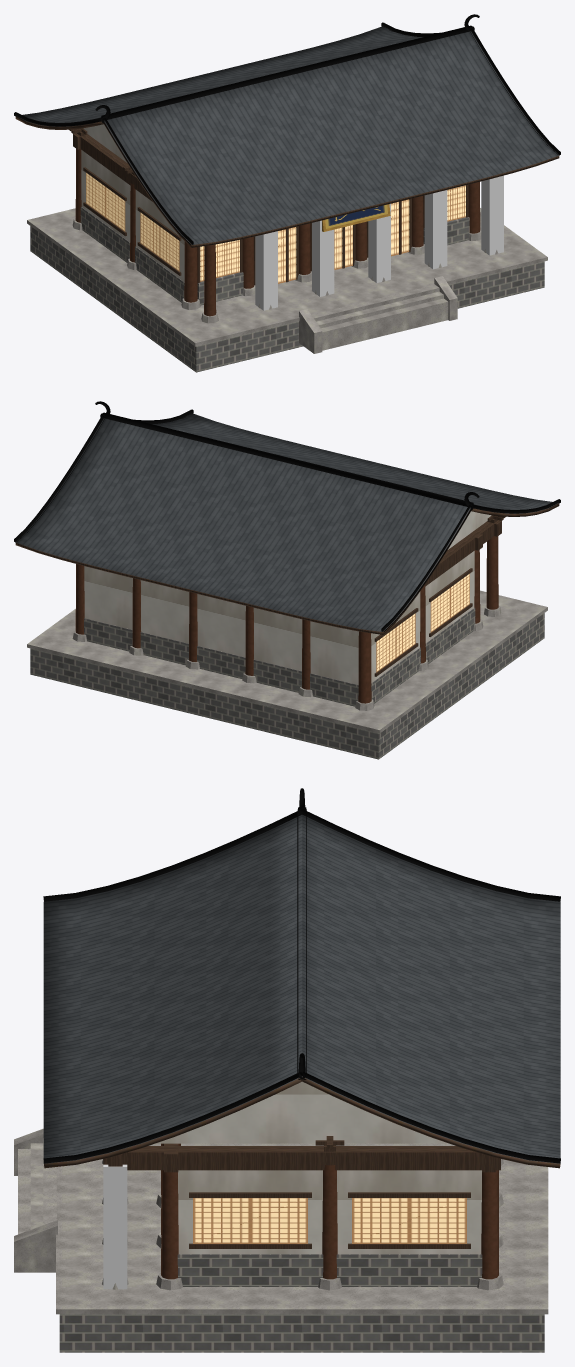
File: town_hall_small.glb
3 renders of one model, top to bottom at view 1: azimuth 30°, elevation 25°; view 2: azimuth 150°, elevation 25°; view 3: azimuth 270°, elevation 25°, orthographic. The views are drawn at different scales.
Visible parts, largest first — view 1: OrphanageRoof, OrphanagePodiumCap, OrphanagePodiumBase, OrphanageLattice, OrphanageColumns, OrphanageStairsfront, OrphanageRoofRidge, OrphanageDado, OrphanageFrames, OrphanageWalls, OrphanageVCol-convcolonly.004, OrphanageVCol-convcolonly.005 (+8 smaller); view 2: OrphanageRoof, OrphanageWalls, OrphanagePodiumBase, OrphanagePodiumCap, OrphanageDado, OrphanageColumns, OrphanageRoofRidge, OrphanageLattice, OrphanageBeams, OrphanageColumnBases, OrphanageFrames, OrphanageGables; view 3: OrphanageRoof, OrphanagePodiumCap, OrphanagePodiumBase, OrphanageWalls, OrphanageLattice, OrphanageDado, OrphanageBeams, OrphanageGables, OrphanageRoofRidge, OrphanageColumns, OrphanageVCol-convcolonly.005, OrphanageStairsfront (+3 smaller).
Boxes of the visible parts, bbox=[...] form: OrphanageRoof: bbox=[15, 26, 559, 247]; OrphanagePodiumCap: bbox=[27, 208, 547, 346]; OrphanagePodiumBase: bbox=[30, 226, 544, 372]; OrphanageLattice: bbox=[86, 172, 465, 283]; OrphanageColumns: bbox=[75, 149, 480, 316]; OrphanageStairsfront: bbox=[311, 285, 448, 350]; OrphanageRoofRidge: bbox=[14, 14, 560, 244]; OrphanageDado: bbox=[80, 207, 469, 305]; OrphanageFrames: bbox=[83, 167, 468, 284]; OrphanageWalls: bbox=[81, 150, 184, 281]; OrphanageVCol-convcolonly.004: bbox=[424, 190, 447, 269]; OrphanageVCol-convcolonly.005: bbox=[481, 175, 503, 255]; OrphanageRoof: bbox=[15, 413, 559, 634]; OrphanageWalls: bbox=[84, 551, 474, 684]; OrphanagePodiumBase: bbox=[30, 613, 544, 759]; OrphanagePodiumCap: bbox=[27, 590, 547, 733]; OrphanageDado: bbox=[84, 608, 475, 706]; OrphanageColumns: bbox=[75, 536, 498, 703]; OrphanageRoofRidge: bbox=[14, 401, 560, 631]; OrphanageLattice: bbox=[376, 573, 469, 672]; OrphanageBeams: bbox=[425, 520, 501, 586]; OrphanageColumnBases: bbox=[72, 605, 501, 710]; OrphanageFrames: bbox=[374, 568, 472, 676]; OrphanageGables: bbox=[448, 511, 491, 549]; OrphanageRoof: bbox=[43, 814, 560, 1168]; OrphanagePodiumCap: bbox=[56, 1143, 548, 1314]; OrphanagePodiumBase: bbox=[59, 1314, 544, 1352]; OrphanageWalls: bbox=[178, 1170, 481, 1254]; OrphanageLattice: bbox=[193, 1198, 466, 1243]; OrphanageDado: bbox=[177, 1254, 482, 1286]; OrphanageBeams: bbox=[103, 1143, 500, 1172]; OrphanageGables: bbox=[155, 1081, 448, 1143]; OrphanageRoofRidge: bbox=[43, 788, 560, 1163]; OrphanageColumns: bbox=[161, 1143, 498, 1279]; OrphanageVCol-convcolonly.005: bbox=[103, 1164, 127, 1289]; OrphanageStairsfront: bbox=[18, 1138, 56, 1234].
Size of what is drawn, in the model's own units: 16.31 by 8.5 by 13.76.
Materials: 11 (11 with a texture image).
